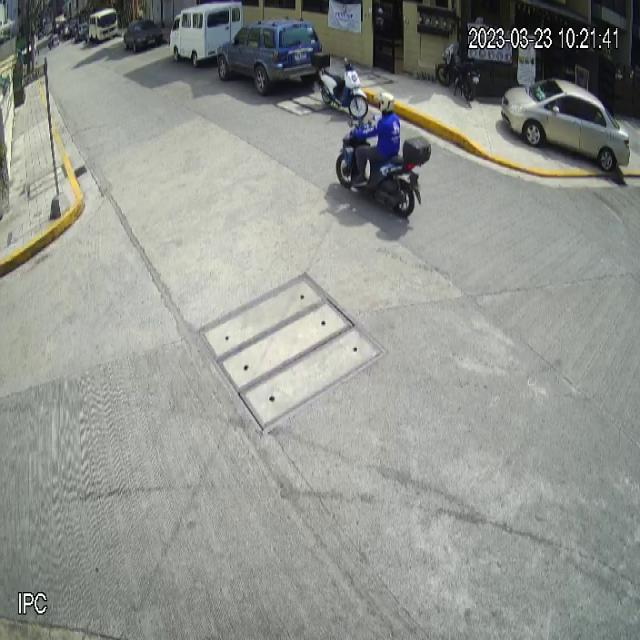Car: (501, 79, 631, 172), (216, 15, 323, 94)
Motorcycle: (335, 113, 433, 218), (312, 51, 368, 120)
Van: (169, 0, 243, 67)
